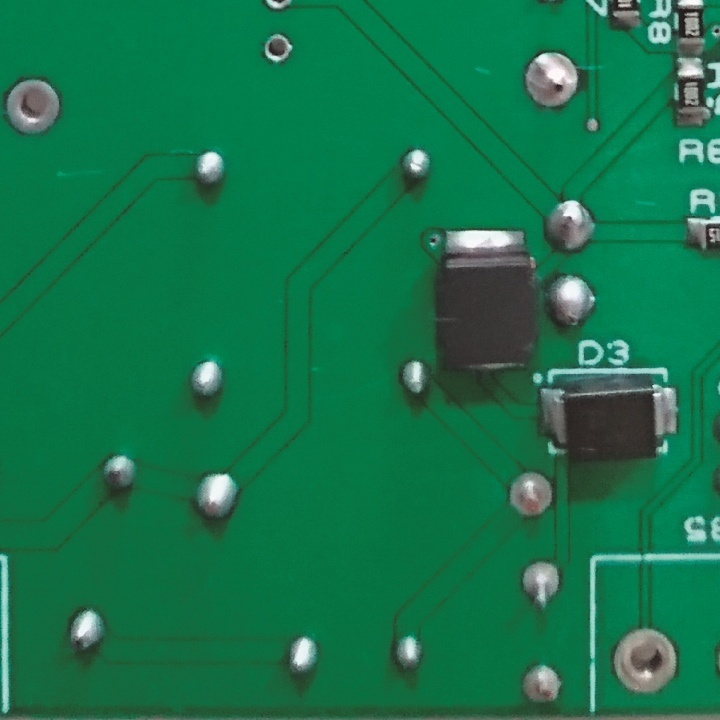F: (611, 628, 680, 698), (4, 74, 64, 143), (523, 49, 581, 113), (504, 469, 558, 522), (519, 556, 564, 612), (518, 660, 563, 705), (261, 30, 297, 70)
